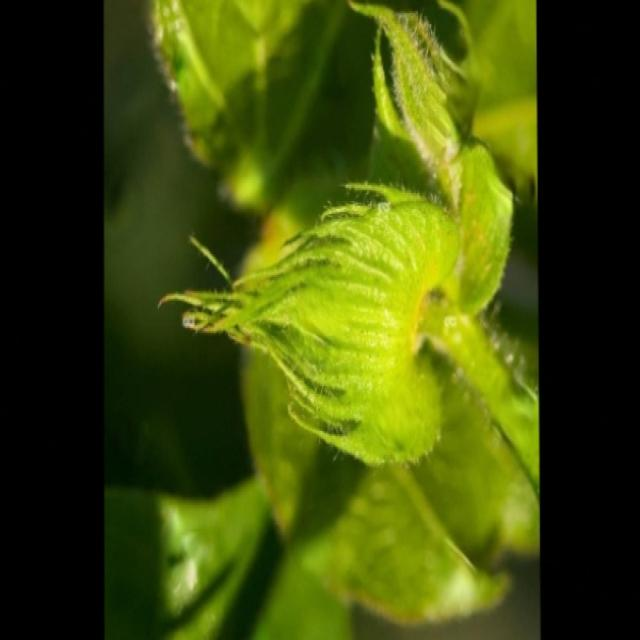Cotton Bud: (177, 158, 478, 459)
